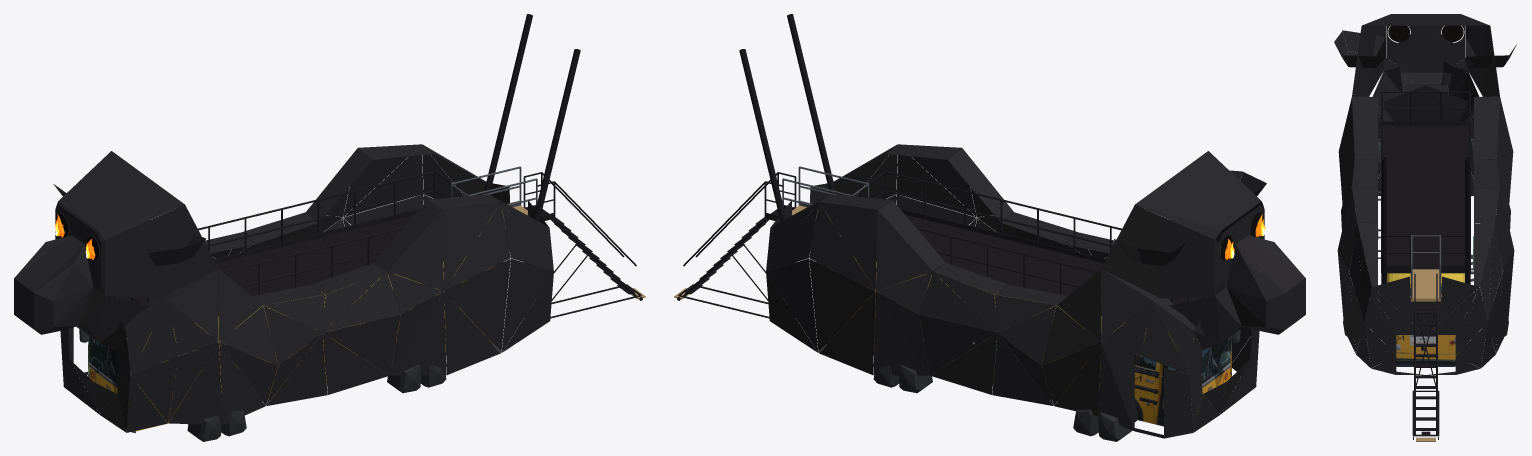
File: baaabs-earl-geodesic.glb
The picture shows the model from 3 angles, left to right: view 1: azimuth 30°, elevation 25°; view 2: azimuth 150°, elevation 25°; view 3: azimuth 270°, elevation 25°; orthographic projection. The views are drawn at different scales.
Parts seen in each view (by area): view 1: B-D-038 | Driver Flank 07 b, B-D-036 | Driver Flank 06 b, B-D-043 | Driver Skirt 02 a, B-D-037 | Driver Flank 07 a, B-D-047 | Driver Skirt 04 a, B-D-028 | Driver Flank 02 b, H-D-001 | Driver continuous side, B-D-033 | Driver Flank 05 a, B-P-045 | Passenger Flank 07 a, H-D-014 | Driver head side upper, B-D-045 | Driver Skirt 03 a, H-D-015 | Driver rising crown (+64 smaller); view 2: B-P-046 | Passenger Flank 07 b, B-P-044 | Passenger Flank 06 b, B-P-045 | Passenger Flank 07 a, B-P-055 | Passenger Skirt 04 a, B-P-036 | Passenger Flank 02 b, H-P-001 | Passenger continuous side, B-P-041 | Passenger Flank 05 a, B-D-037 | Driver Flank 07 a, H-P-014 | Passenger head side upper, H-P-015 | Passenger rising crown, H-C-002 | Center continuous rising crown, H-D-015 | Driver rising crown (+65 smaller); view 3: B-D-013 | Driver Crown 03 a, B-P-021 | Passenger Crown 03 a, Bus__Rear fascia, B-D-059 | Driver Rear surround 06 a, B-P-015 | Passenger Rear surround 05 a, Dancefloor_section_01, Dancefloor_section_02, Dancefloor_section_12, Dancefloor_section_03, Dancefloor_section_06, Dancefloor_section_09, F-C-005 | Center F nose front (+88 smaller).
Boxes of the visible parts, box(x1,y1,x2,y2) form: B-D-038 | Driver Flank 07 b: box(442, 202, 500, 290); B-D-036 | Driver Flank 06 b: box(387, 210, 443, 290); B-D-043 | Driver Skirt 02 a: box(168, 343, 222, 425); B-D-037 | Driver Flank 07 a: box(445, 202, 510, 290); B-D-047 | Driver Skirt 04 a: box(266, 333, 327, 405); B-D-028 | Driver Flank 02 b: box(168, 269, 218, 341); H-D-001 | Driver continuous side: box(105, 259, 155, 298); B-D-033 | Driver Flank 05 a: box(323, 272, 400, 332); B-P-045 | Passenger Flank 07 a: box(344, 155, 423, 216); H-D-014 | Driver head side upper: box(105, 215, 161, 262); B-D-045 | Driver Skirt 03 a: box(219, 343, 265, 424); H-D-015 | Driver rising crown: box(88, 184, 184, 230); B-P-046 | Passenger Flank 07 b: box(819, 202, 877, 290); B-P-044 | Passenger Flank 06 b: box(876, 210, 932, 290); B-P-045 | Passenger Flank 07 a: box(809, 202, 874, 290); B-P-055 | Passenger Skirt 04 a: box(992, 333, 1053, 405); B-P-036 | Passenger Flank 02 b: box(1101, 269, 1151, 341); H-P-001 | Passenger continuous side: box(1164, 259, 1214, 298); B-P-041 | Passenger Flank 05 a: box(919, 272, 996, 332); B-D-037 | Driver Flank 07 a: box(896, 155, 975, 216); H-P-014 | Passenger head side upper: box(1158, 215, 1214, 262); H-P-015 | Passenger rising crown: box(1135, 184, 1231, 230); H-C-002 | Center continuous rising crown: box(1162, 171, 1250, 222); H-D-015 | Driver rising crown: box(1181, 151, 1261, 208); B-D-013 | Driver Crown 03 a: box(1352, 96, 1377, 159); B-P-021 | Passenger Crown 03 a: box(1474, 96, 1499, 159); Bus__Rear fascia: box(1390, 283, 1461, 359); B-D-059 | Driver Rear surround 06 a: box(1372, 276, 1425, 333); B-P-015 | Passenger Rear surround 05 a: box(1426, 276, 1479, 333); Dancefloor_section_01: box(1381, 125, 1470, 137); Dancefloor_section_02: box(1381, 137, 1470, 149); Dancefloor_section_12: box(1381, 256, 1470, 273); Dancefloor_section_03: box(1381, 149, 1470, 161); Dancefloor_section_06: box(1381, 184, 1470, 196); Dancefloor_section_09: box(1381, 219, 1470, 231); F-C-005 | Center F nose front: box(1408, 40, 1443, 72).
Size of the model in its own units: 18.68 by 8.36 by 5.52.
Materials: 225 (1 with a texture image).
